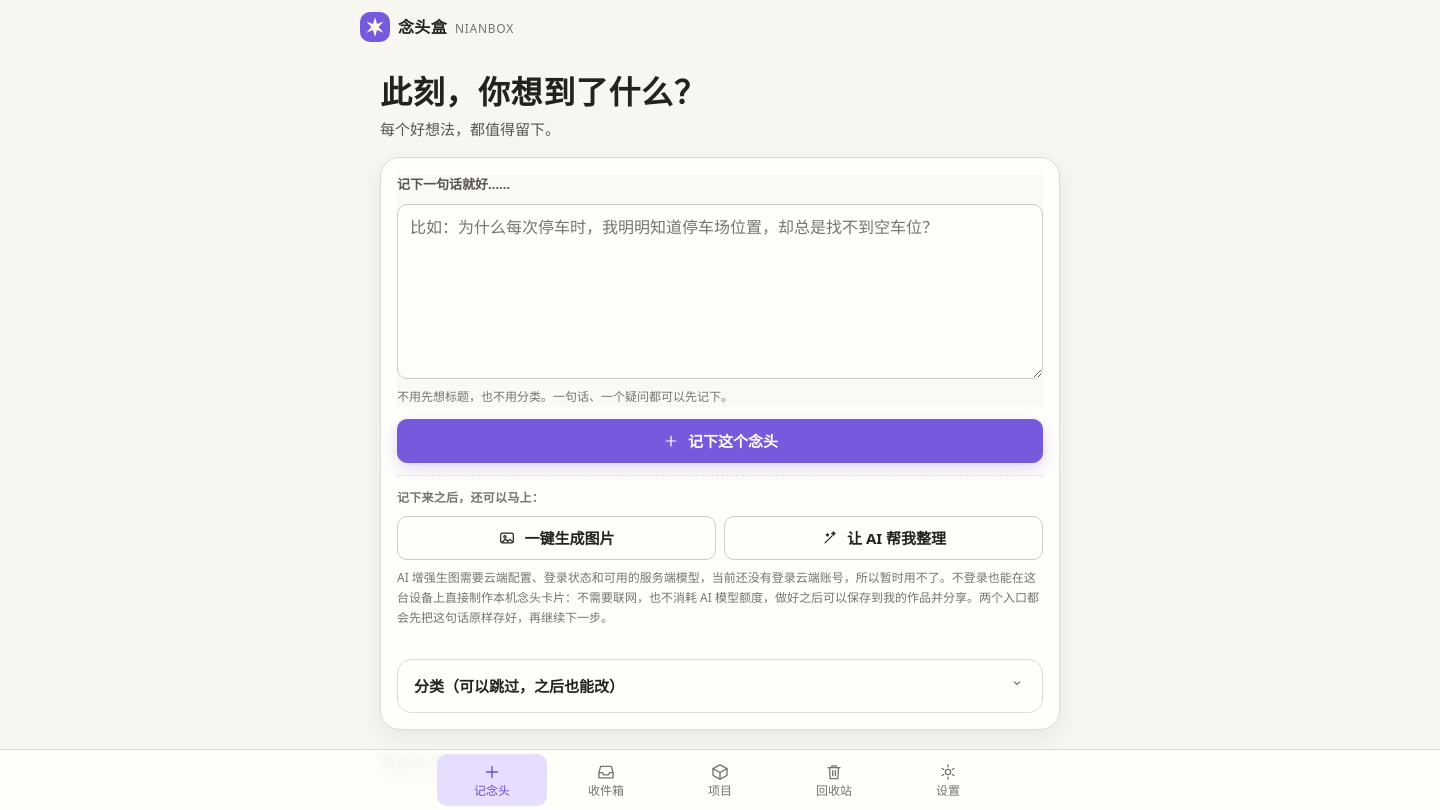
首页：随手记 › 可以创建新念头，并真正写入本地数据库
Step 1. Type "停车场总是找不到空车位" into the text box labelled "记下一句话就好……" → (720, 292), box top-left (397, 204), bottom-right (1043, 379)
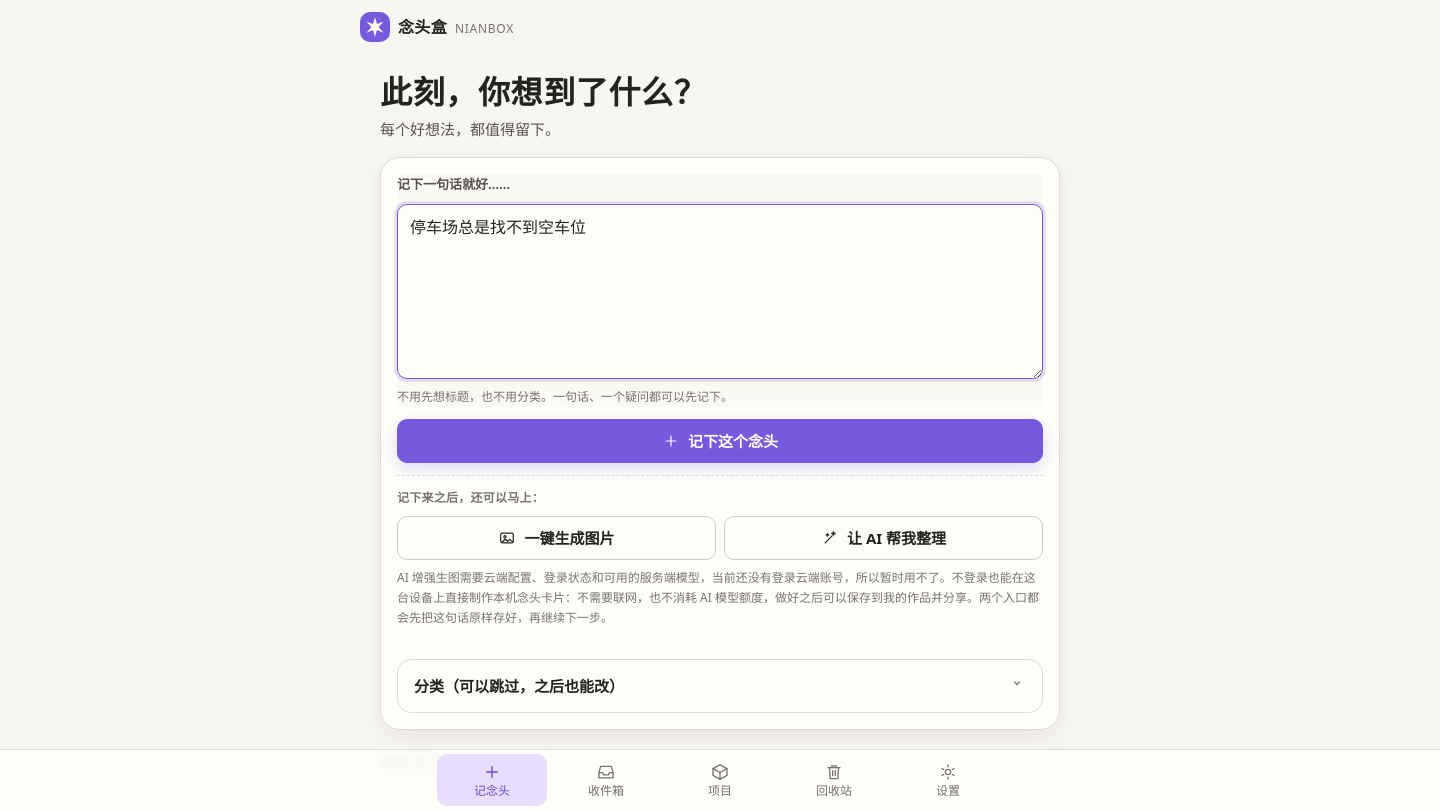
Step 2. Click the button "记下这个念头" → (720, 441), box top-left (397, 419), bottom-right (1043, 463)
(page scrolled)
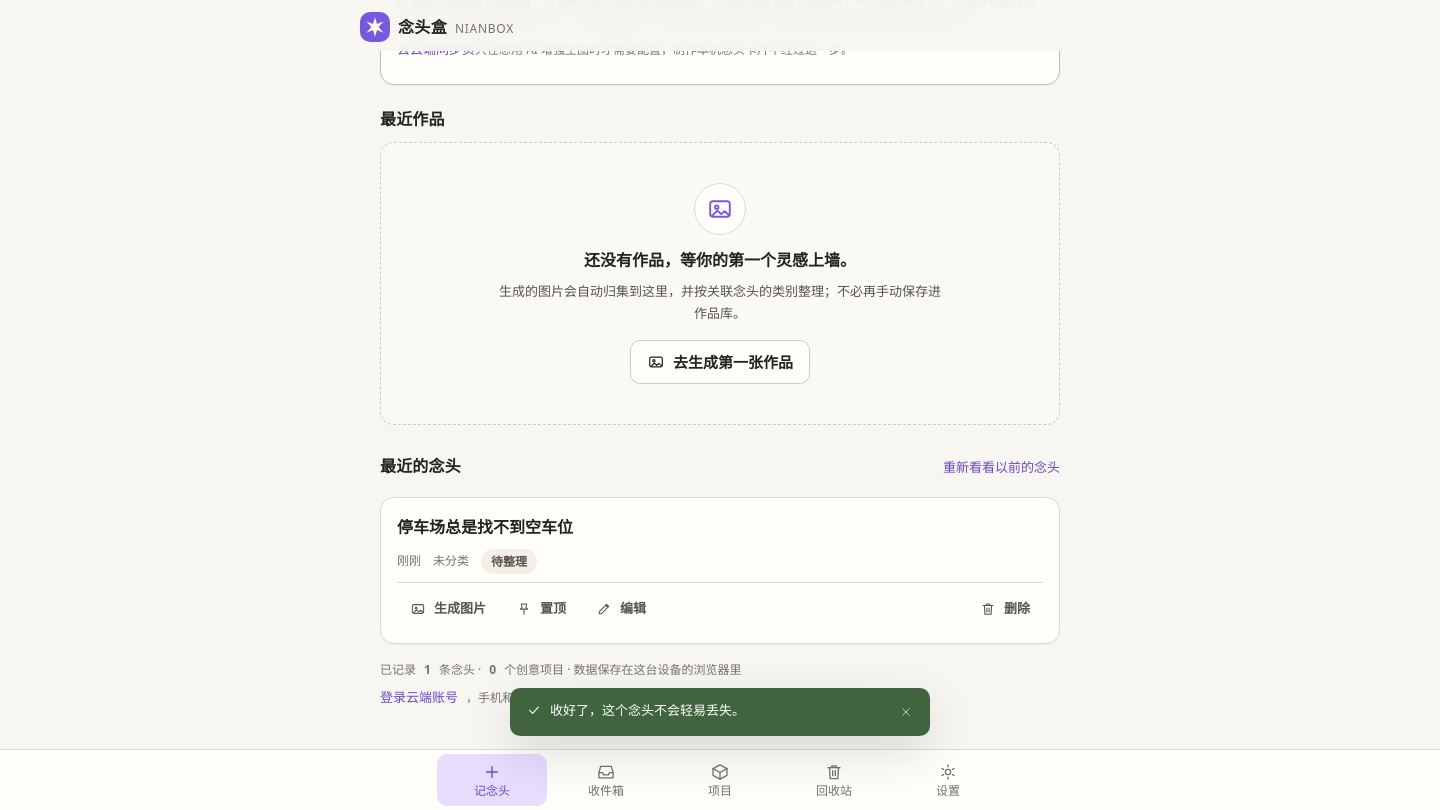
Check: the text "收好了，这个念头不会轻易丢失。" is shown, box top-left (550, 701), bottom-right (745, 719)
Check: the text "停车场总是找不到空车位" is shown, box top-left (397, 516), bottom-right (573, 538)
